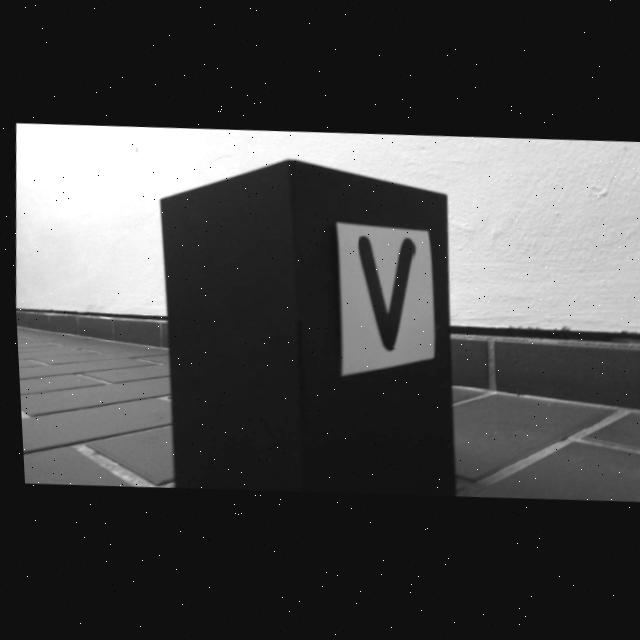V: (356, 238, 411, 349)
